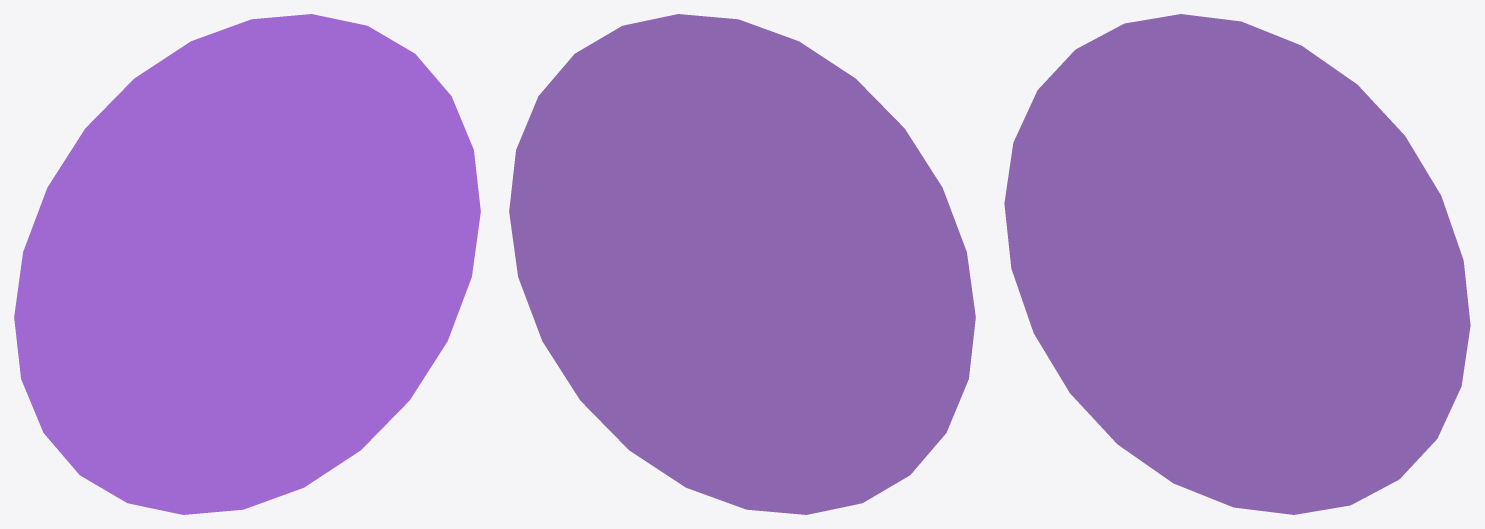
Rendered from original-36.obj.
3 views of the same model, side by side, from view 1: azimuth 30°, elevation 25°; view 2: azimuth 150°, elevation 25°; view 3: azimuth 330°, elevation 25° (orthographic).
Visible parts, largest first — view 1: mesh2/mesh2-geometry/material_4#mesh2-geometry; view 2: mesh2/mesh2-geometry/material_4#mesh2-geometry; view 3: mesh2/mesh2-geometry/material_4#mesh2-geometry.
Part boxes in pixels (bbox=[...]): mesh2/mesh2-geometry/material_4#mesh2-geometry: bbox=[14, 14, 480, 514]; mesh2/mesh2-geometry/material_4#mesh2-geometry: bbox=[509, 14, 975, 514]; mesh2/mesh2-geometry/material_4#mesh2-geometry: bbox=[1004, 14, 1470, 514].
Size of the model in its own units: 0.6484 by 0.6484 by 0.
